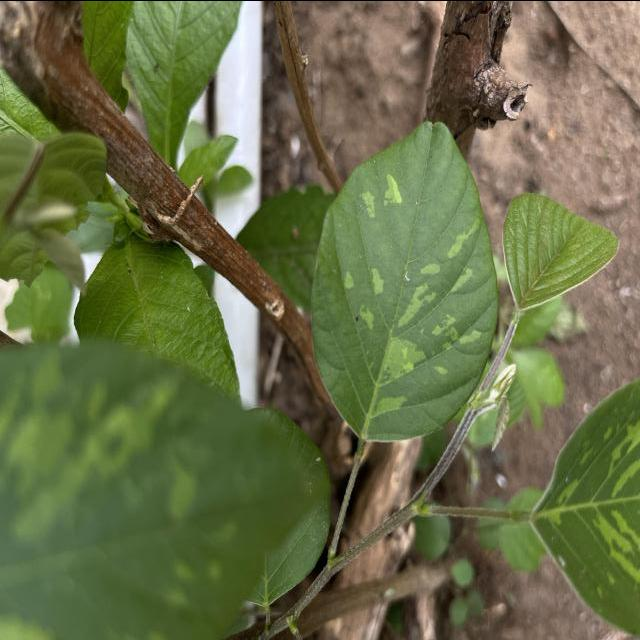Desmodium gangeticum: (306, 117, 501, 444)
